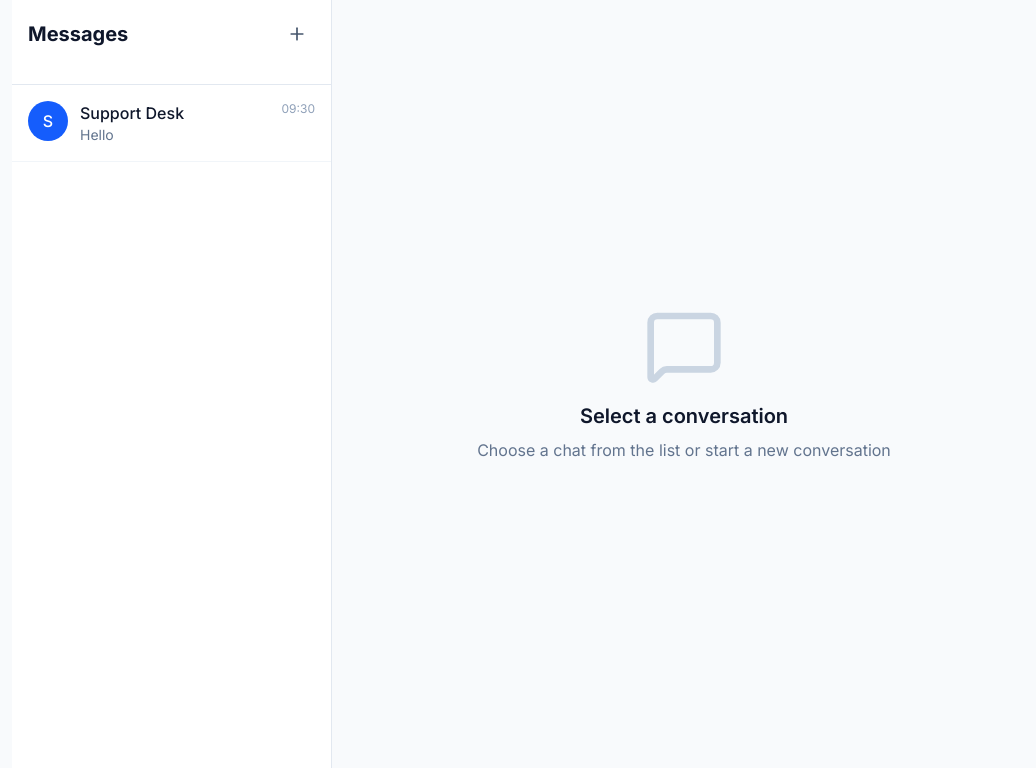
Test case: #310 — Contact Admin Support, refused › SHOWS THE REASON THE SERVER GAVE, rather than doing nothing at all
Later steps or results of the test are not shown.
Expected: the heading "Messages" is shown, [28,20,128,48]
Click the button named "New conversation" at point(297, 34), box [279,16,315,52]
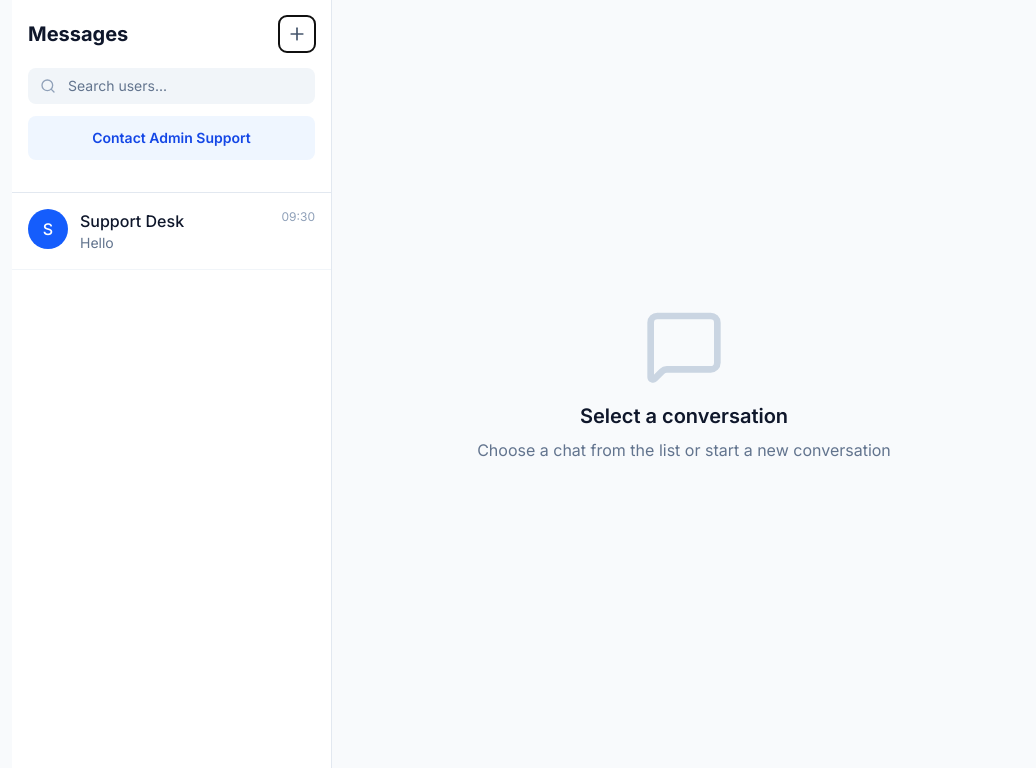
Expected: the button "Contact Admin Support" is shown, [28,116,315,160]
